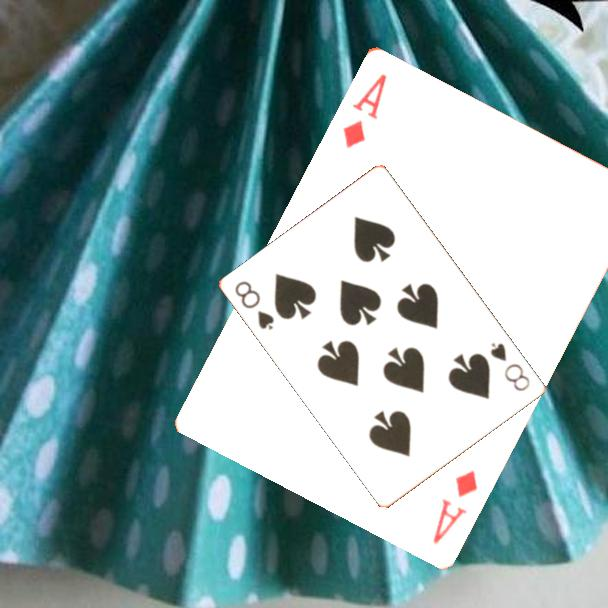d01: (338, 69, 390, 151), (429, 466, 481, 547)
s08: (487, 339, 533, 394), (232, 277, 277, 333)
